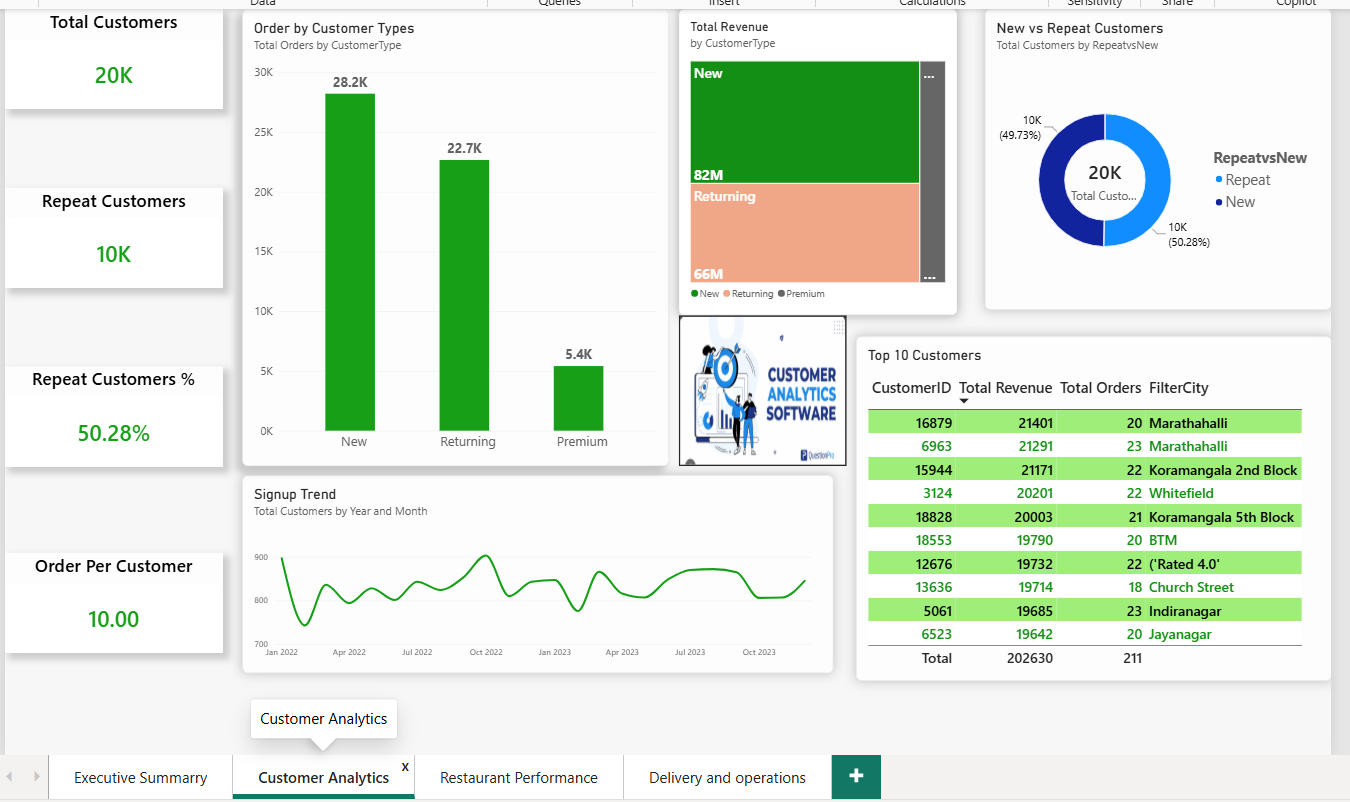

What the dashboard file says about the page in this screenshot:
{"tool":"powerbi","page":{"name":"Customer Analytics","canvas":[1920,1080],"ordinal":1},"visuals":[{"type":"cardVisual","title":"Total Customers","fields":{"Data":["Orders.Total Customers"]},"box":[0,0,315,145],"z":0},{"type":"lineChart","title":"Signup Trend","fields":{"Category":["Customers.SignupDate.Variation.Date Hierarchy.Year","Customers.SignupDate.Variation.Date Hierarchy.Month"],"Y":["Orders.Total Customers"]},"box":[343.3,675,855,286.7],"z":1000},{"type":"columnChart","title":"Order by Customer Types","fields":{"Category":["Customers.CustomerType"],"Y":["Orders.Total Orders"]},"box":[343.3,0,616.7,661.7],"z":2000},{"type":"donutChart","title":"New vs Repeat Customers","fields":{"Category":["Customers.RepeatvsNew"],"Y":["Orders.Total Customers"]},"box":[1418.3,0,501.7,435],"z":3000},{"type":"tableEx","title":"Top 10 Customers","fields":{"Values":["Orders.CustomerID","Orders.Total Revenue","Orders.Total Orders","Customers.FilterCity"]},"box":[1231.7,475,688.3,498.3],"z":4000},{"type":"cardVisual","title":"Repeat Customers %","fields":{"Data":["Orders.Repeat Customer %"]},"box":[0,516.7,315,145],"z":5000},{"type":"cardVisual","title":"Repeat Customers","fields":{"Data":["Orders.Repeat Customers"]},"box":[0,258.3,315,145],"z":6000},{"type":"cardVisual","title":"Order Per Customer","fields":{"Data":["Orders.Orders Per Customer"]},"box":[0,786.7,315,145],"z":7000},{"type":"treemap","fields":{"Group":["Customers.CustomerType"],"Values":["Orders.Total Revenue"]},"box":[975,0,403.3,443.3],"z":8000},{"type":"image","box":[975,443.3,243.3,218.3],"z":9000}]}

Visuals, with their boxes on the page's 1920x1080 design canvas (x1, y1, x2, y2). These are canvas units, not pixel positions in the 1350x802 screenshot, which may show the page scaled, cropped or inside an application window:
"Total Customers" cardVisual: 0 0 315 145
"Signup Trend" lineChart: 343 675 1198 962
"Order by Customer Types" columnChart: 343 0 960 662
"New vs Repeat Customers" donutChart: 1418 0 1920 435
"Top 10 Customers" tableEx: 1232 475 1920 973
"Repeat Customers %" cardVisual: 0 517 315 662
"Repeat Customers" cardVisual: 0 258 315 403
"Order Per Customer" cardVisual: 0 787 315 932
treemap - Customers.CustomerType x Orders.Total Revenue: 975 0 1378 443
image: 975 443 1218 662
